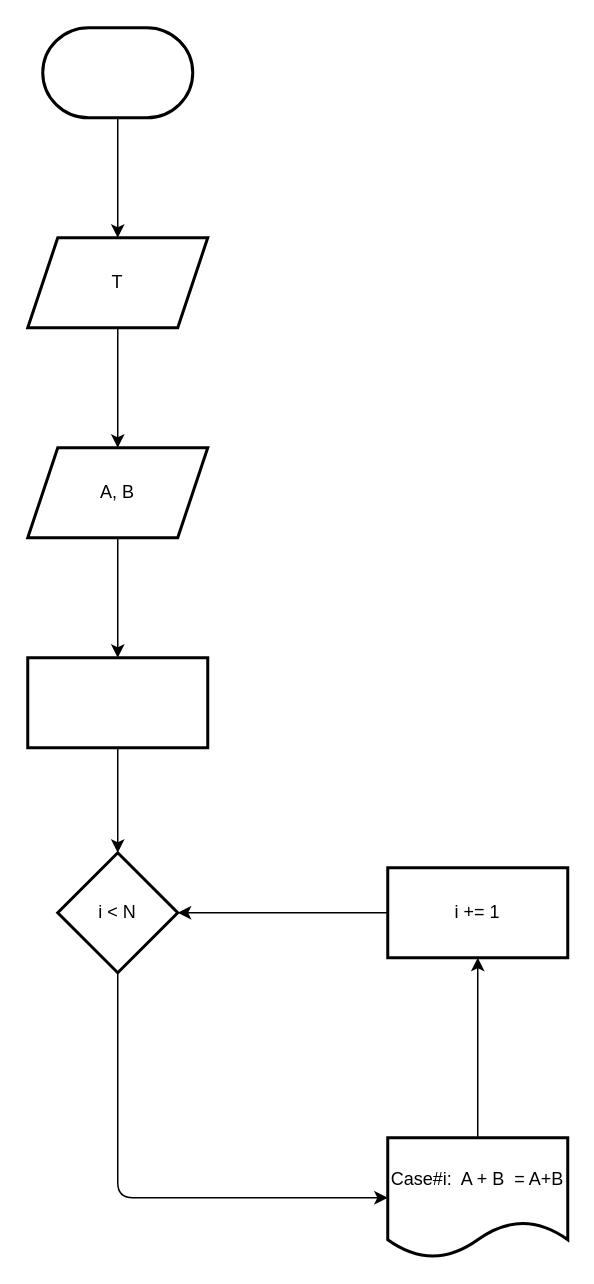
The diagram is 594 pixels wide and 1284 high, and some of its shapes have lost their labels. The centre of each missing label's shape, as x and y in pixels:
i = 1: pixel 117 702
start: pixel 117 72
